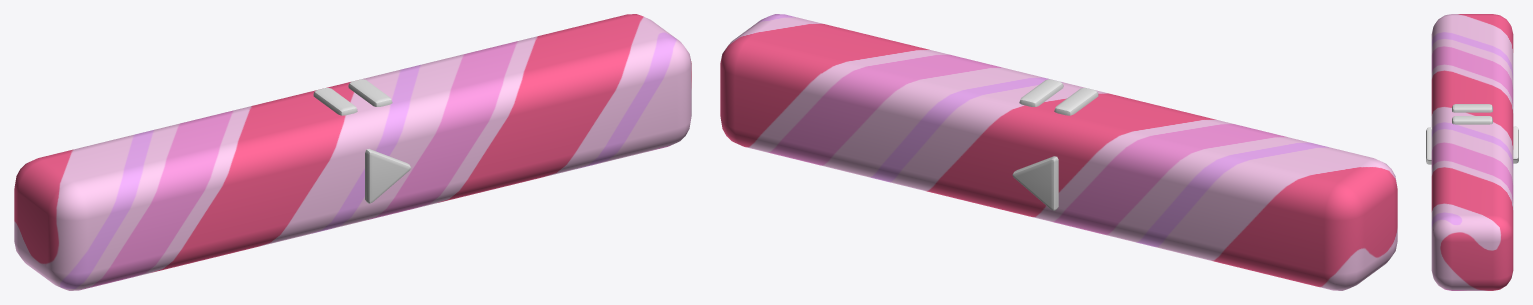
Rendered from floor.fbx.
The picture shows the model from 3 angles, left to right: view 1: azimuth 30°, elevation 25°; view 2: azimuth 150°, elevation 25°; view 3: azimuth 270°, elevation 25°; orthographic projection. The views are drawn at different scales.
Parts seen in each view (by area): view 1: yuka, pCube1, pCube3; view 2: yuka, pCube4, pCube3; view 3: yuka, pCube3, pCube1, pCube4.
Boxes of the visible parts, x1=… form: yuka: x1=14, y1=14, x2=691, y2=290; pCube1: x1=365, y1=149, x2=410, y2=203; pCube3: x1=313, y1=79, x2=392, y2=115; yuka: x1=720, y1=14, x2=1397, y2=290; pCube4: x1=1012, y1=156, x2=1058, y2=210; pCube3: x1=1019, y1=79, x2=1098, y2=115; yuka: x1=1431, y1=14, x2=1513, y2=290; pCube3: x1=1452, y1=104, x2=1492, y2=124; pCube1: x1=1426, y1=127, x2=1431, y2=164; pCube4: x1=1513, y1=126, x2=1518, y2=163.
Bounding box in the file's own units: 61.37 × 10.69 × 11.14.
